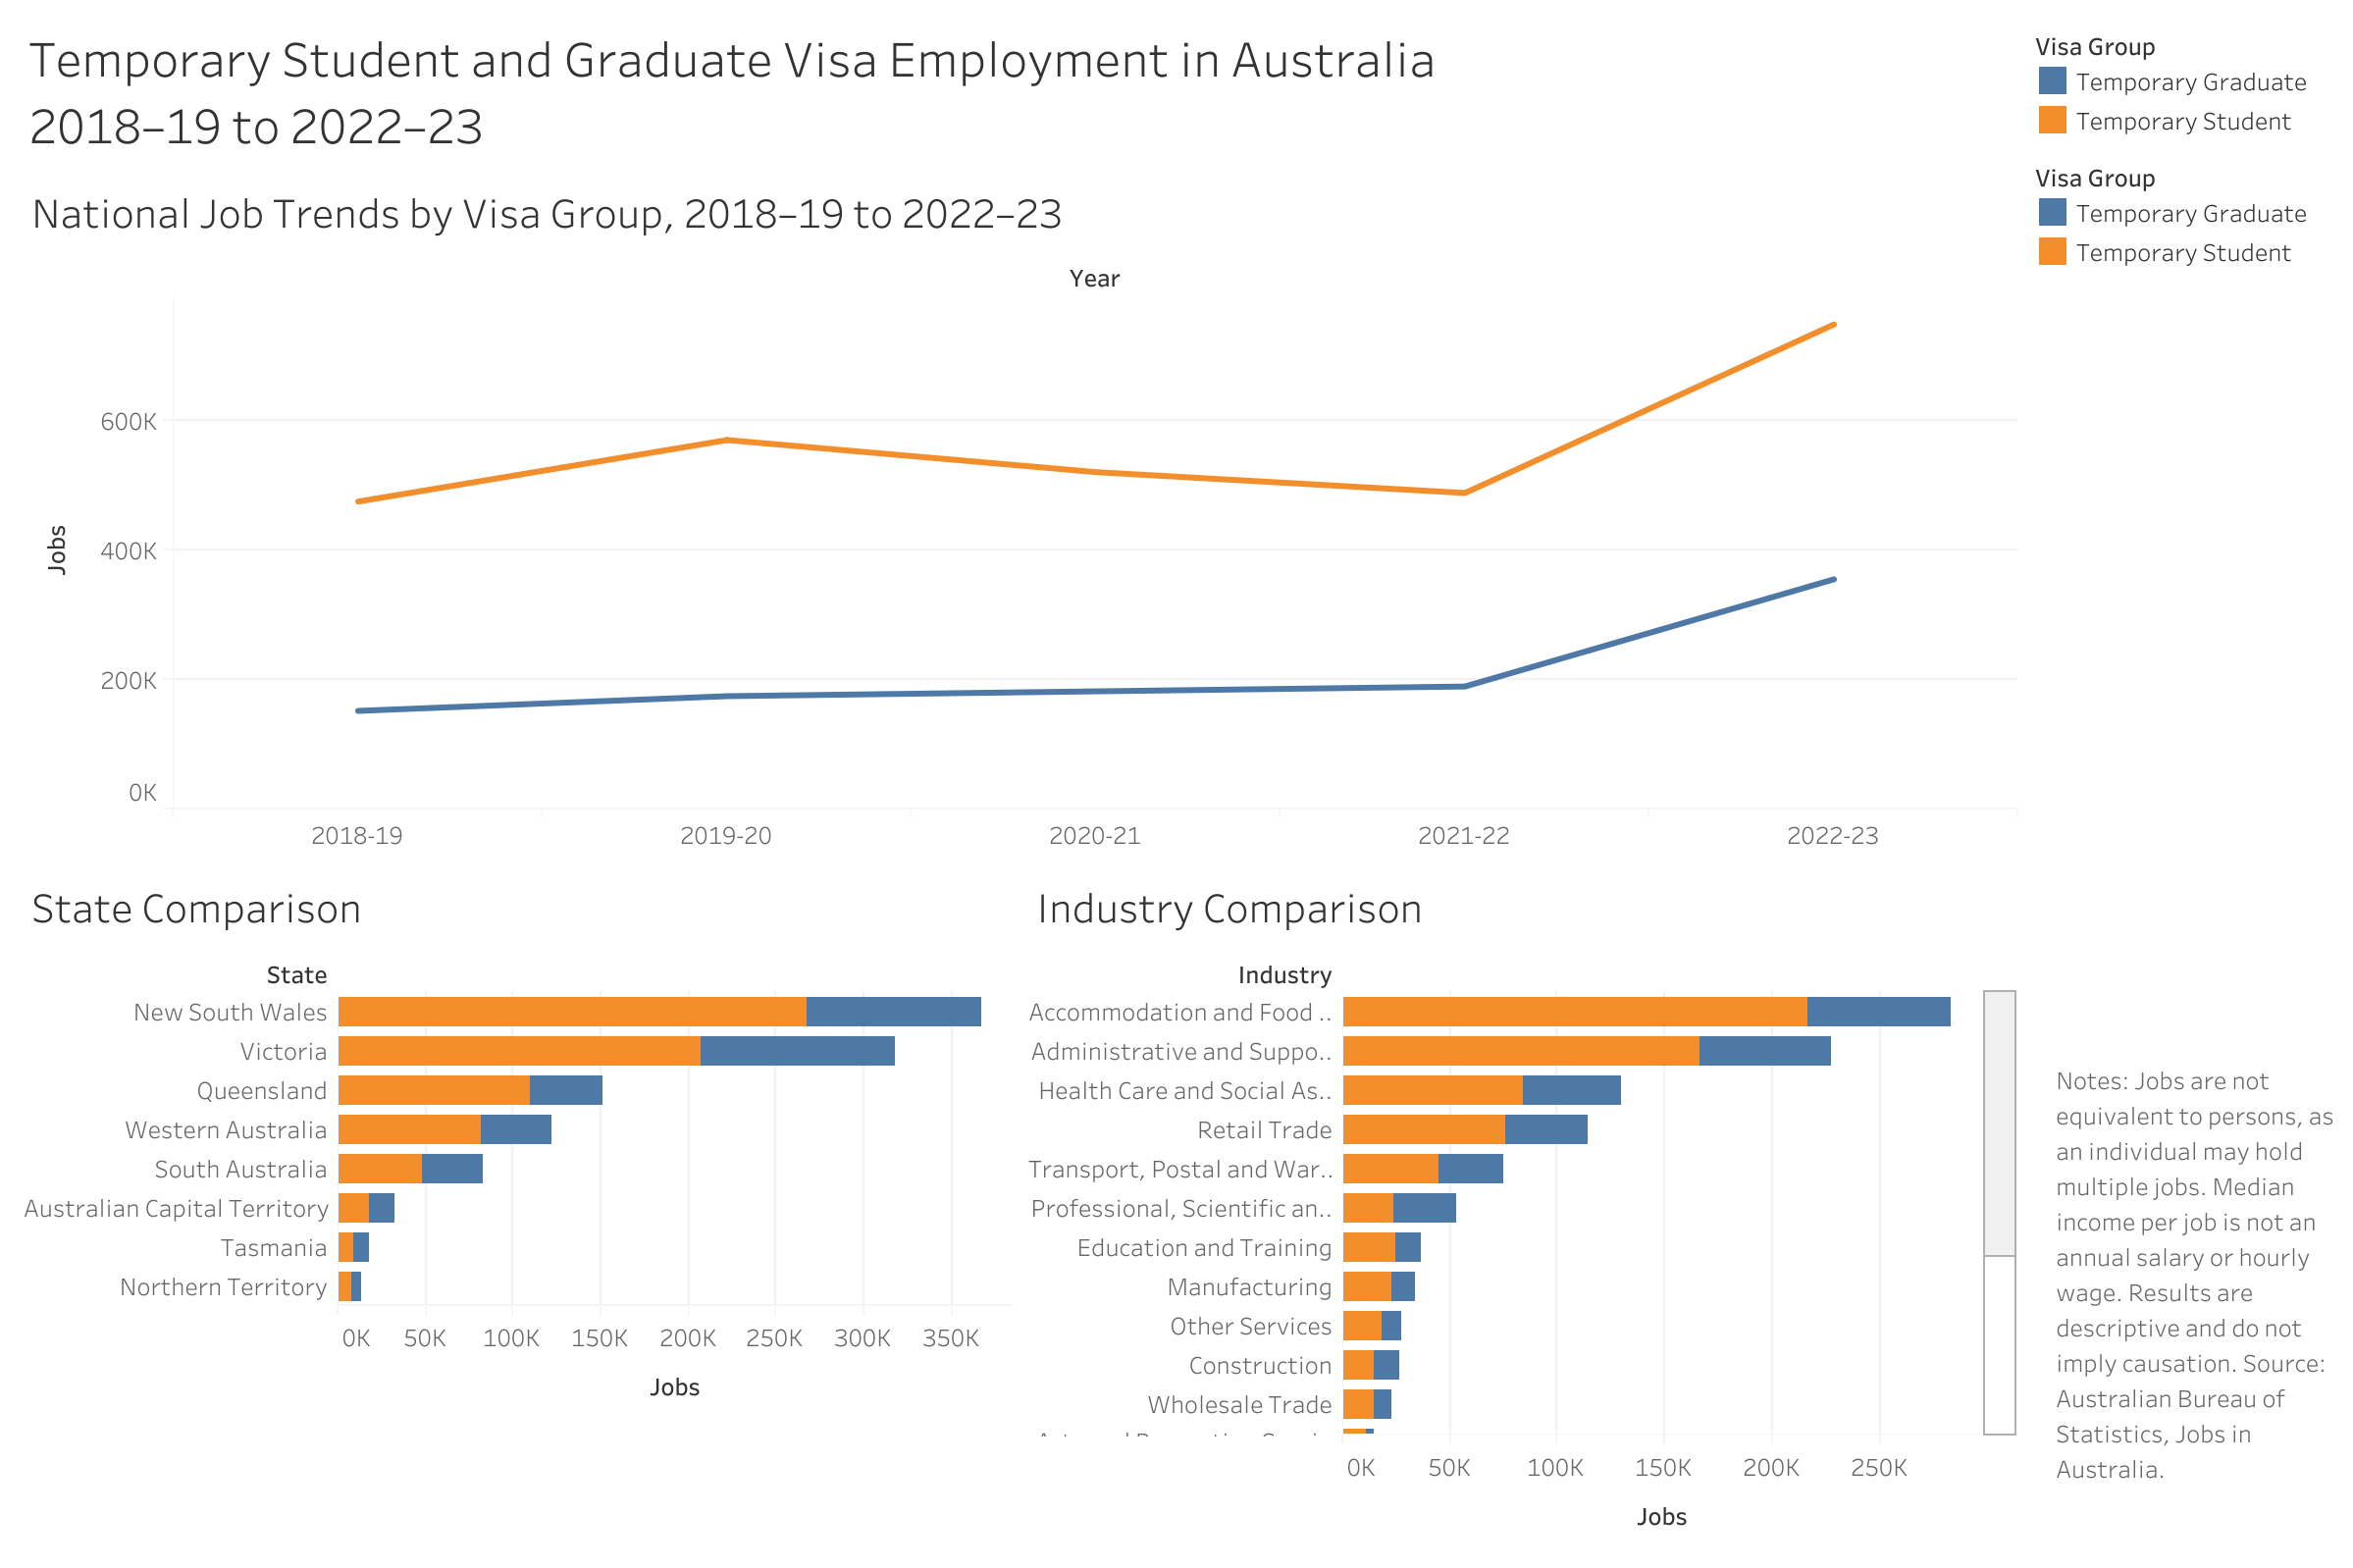

The page's visual inventory and layout, read from the dashboard file:
{"tool":"tableau","page":{"name":"仪表板 1","canvas":[1200,800],"ordinal":0},"visuals":[{"type":"title","box":[8,8,1024,76]},{"type":"legend","title":"Industry Comparison","param":"[federated.03zqhho1txji90170bsw616thel6].[none:visa_group:nk]","box":[1032,8,160,67]},{"type":"legend","title":"National Trend","param":"[federated.1104u6z0gsag3x1g5xvpr10tallg].[none:visa_group:nk]","box":[1032,75,160,67]},{"type":"worksheet","title":"National Trend","mark":"Line","rows":["jobs"],"cols":["year"],"box":[8,84,1024,354]},{"type":"worksheet","title":"State Comparison","mark":"Automatic","rows":["state"],"cols":["jobs"],"box":[8,438,512,354]},{"type":"worksheet","title":"Industry Comparison","mark":"Automatic","rows":["industry"],"cols":["jobs"],"box":[520,438,512,354]},{"type":"text","box":[1045,513,151,272]}]}

Visuals, with their boxes in screenshot pixels (x1, y1, x2, y2), scaled from the page's 1200x800 canvas onto the 2353x1568 screenshot:
title: bbox=(16, 16, 2023, 165)
"Industry Comparison" legend: bbox=(2023, 16, 2337, 147)
"National Trend" legend: bbox=(2023, 147, 2337, 279)
"National Trend" worksheet (Line marks): bbox=(16, 165, 2023, 859)
"State Comparison" worksheet: bbox=(16, 859, 1020, 1552)
"Industry Comparison" worksheet: bbox=(1020, 859, 2023, 1552)
text: bbox=(2049, 1006, 2345, 1539)
